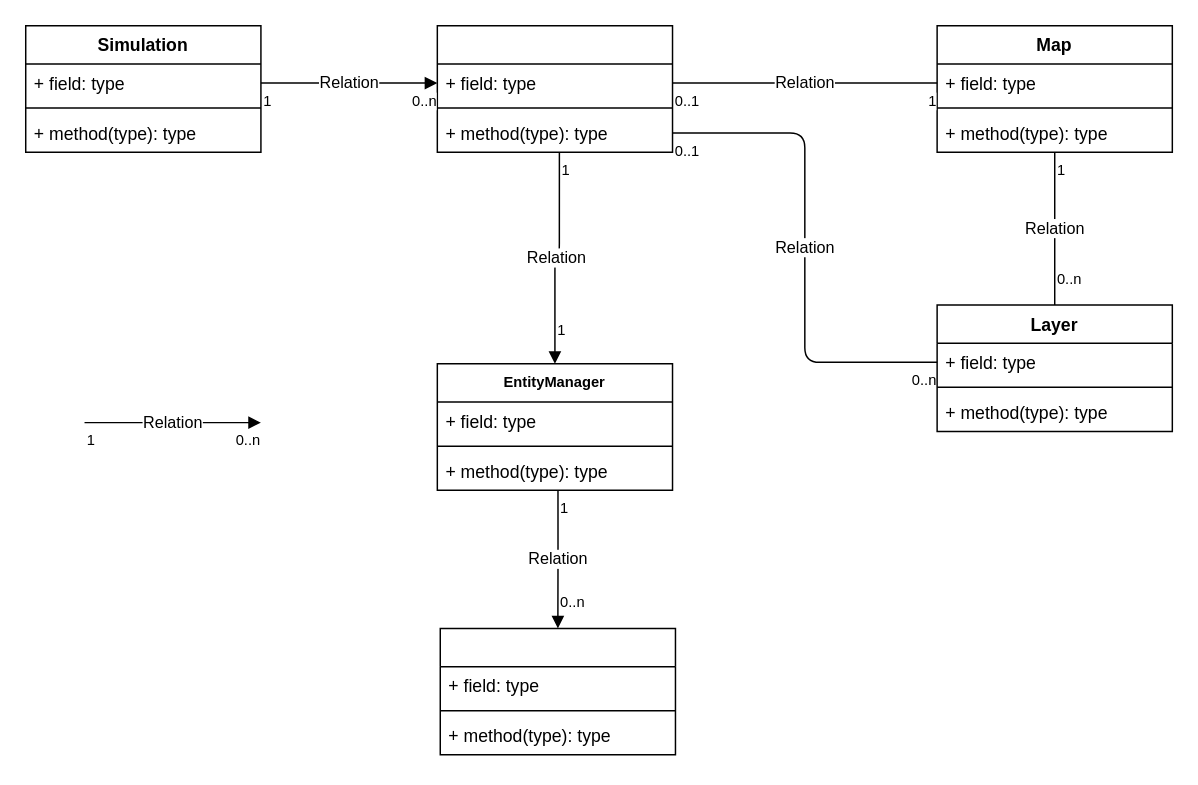
Image size: 1198x785. Some labels were removed from this diagram. Each missing label, with the box of its shape:
Entity: (439, 627, 675, 755)
World: (436, 24, 673, 152)
